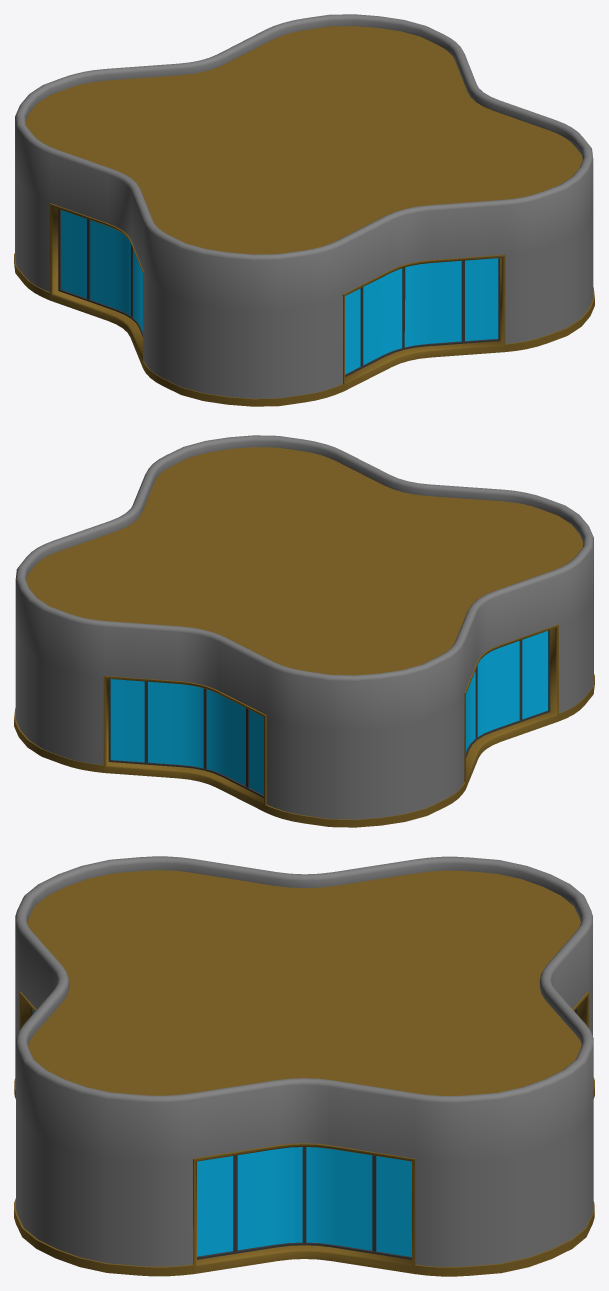
Rendered from SM_Building_Base_MK5.fbx.
3 views of the same model, one above another, from view 1: azimuth 30°, elevation 25°; view 2: azimuth 150°, elevation 25°; view 3: azimuth 270°, elevation 25° (orthographic). The views are drawn at different scales.
Visible parts, largest first — view 1: SM_Building_Base_MK5; view 2: SM_Building_Base_MK5; view 3: SM_Building_Base_MK5.
Part boxes in pixels (x1,y1,x2,y2): SM_Building_Base_MK5: [14, 14, 594, 406]; SM_Building_Base_MK5: [14, 435, 594, 827]; SM_Building_Base_MK5: [14, 856, 594, 1276].
Bounding box in the file's own units: 1491 × 500 × 1491.
